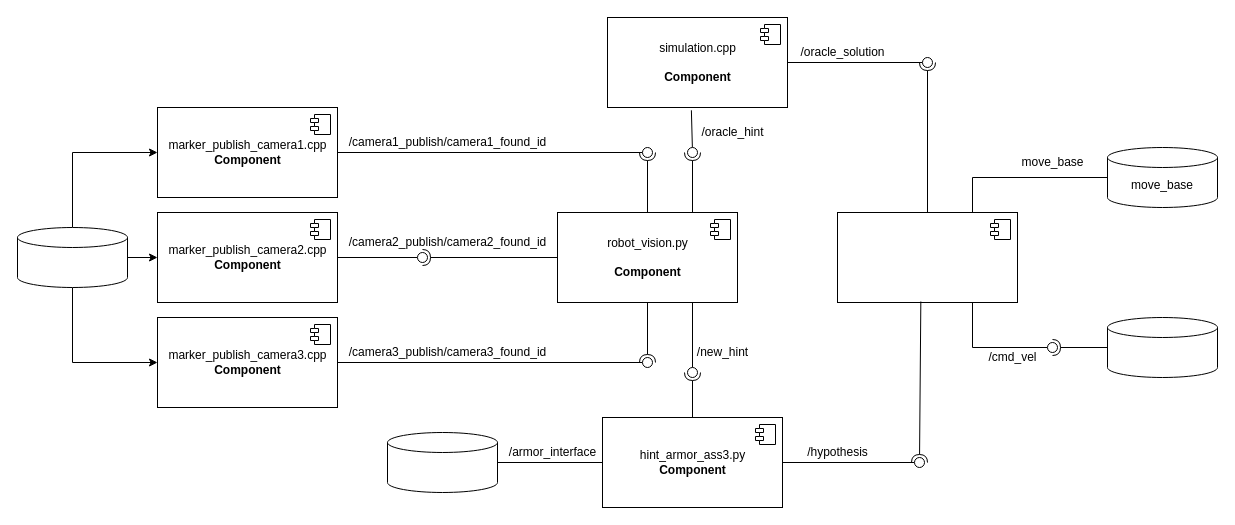
Image size: 1235x525. Some labels were removed from this diagram. Here are the shapes that lost their labels. From the top down, the centre of each, then its label:
(72,257): ArUco
(927,257): robot_fsm.py Component
(1162,347): geometry_msgs
(442,462): Armor
